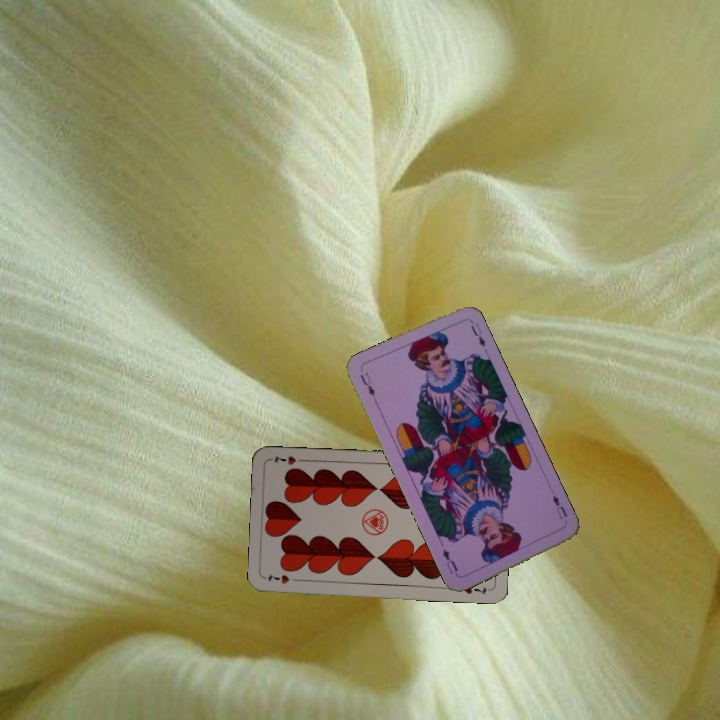EU: (548, 491, 570, 522), (356, 368, 377, 399)
H7: (264, 570, 303, 587)
